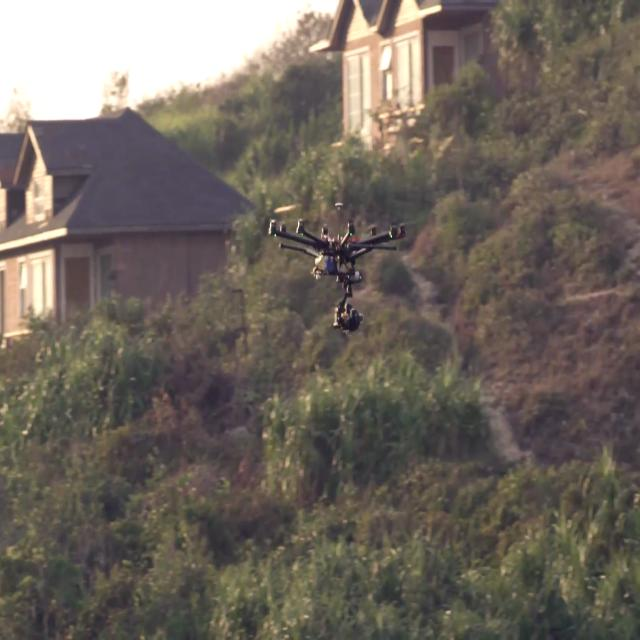drone: (270, 178, 397, 367)
